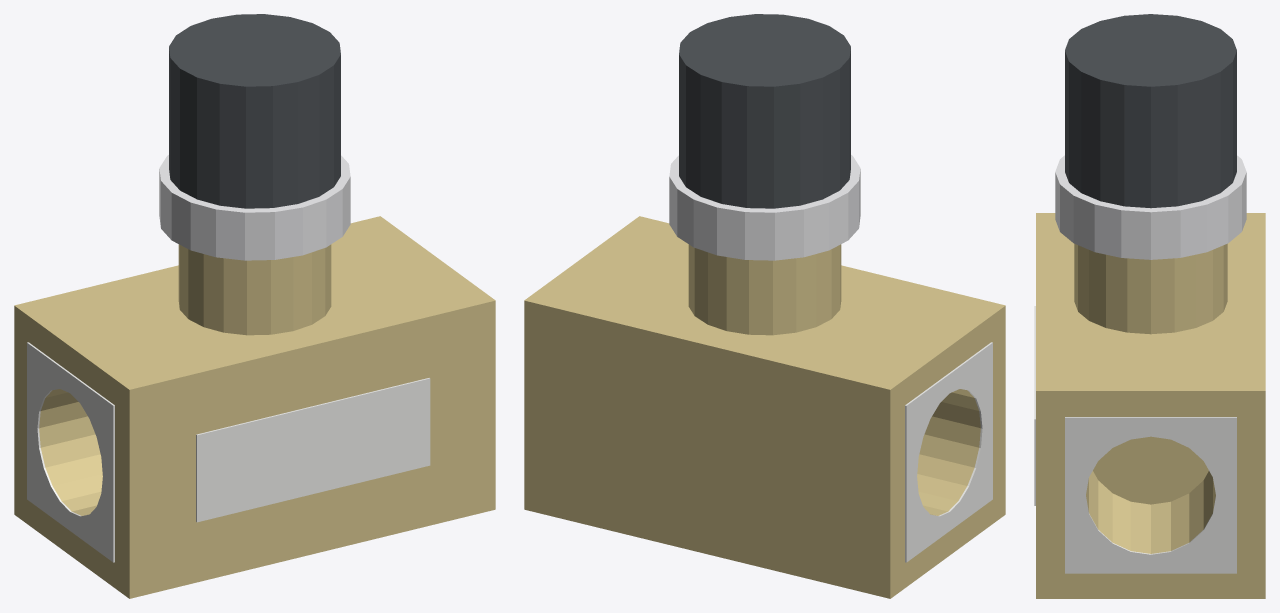
File: flow-control-inline.glb
3 views of the same model, side by side, from view 1: azimuth 30°, elevation 25°; view 2: azimuth 150°, elevation 25°; view 3: azimuth 270°, elevation 25° (orthographic).
Visible parts, largest first — view 1: body, knob, port-1; view 2: body, knob, port-1; view 3: body, knob, port-2.
Boxes of the visible parts, x1=… form: body: x1=14, y1=155, x2=495, y2=598; knob: x1=169, y1=14, x2=340, y2=208; port-1: x1=27, y1=342, x2=114, y2=562; body: x1=524, y1=155, x2=1005, y2=598; knob: x1=679, y1=14, x2=850, y2=208; port-1: x1=905, y1=342, x2=992, y2=562; body: x1=1034, y1=155, x2=1265, y2=598; knob: x1=1065, y1=14, x2=1236, y2=208; port-2: x1=1065, y1=417, x2=1236, y2=573.
Size of what is drawn, in the model's own units: 0.0444 by 0.053 by 0.0242.
